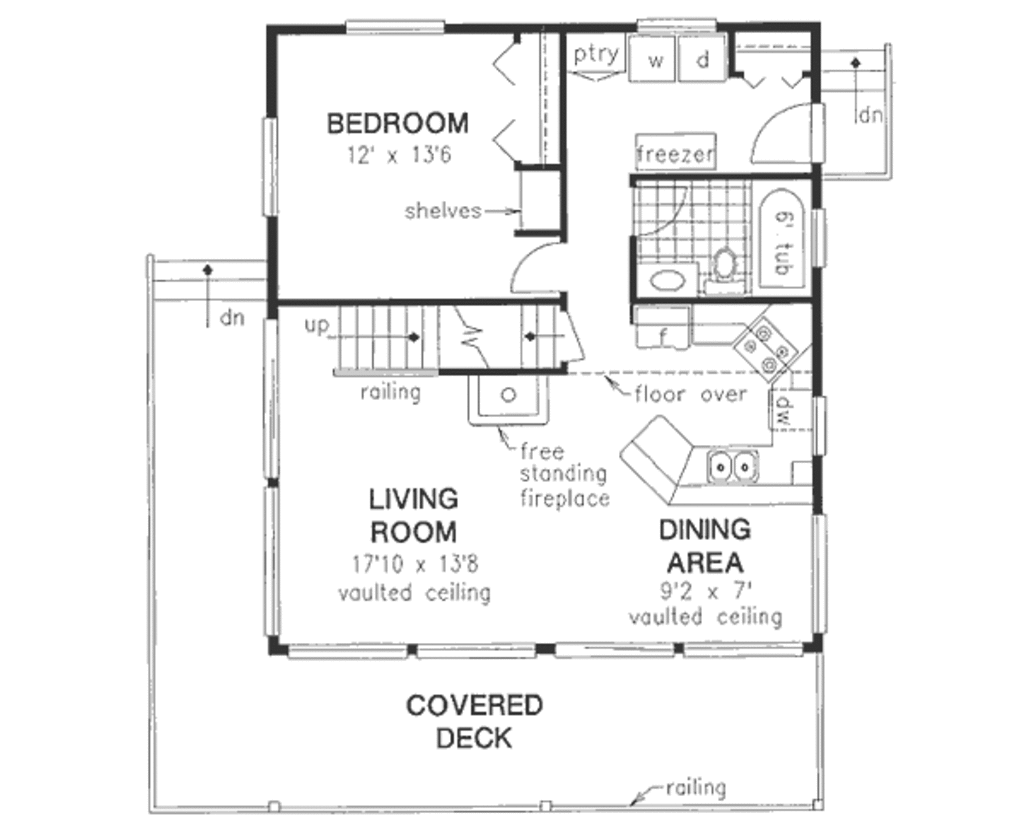door: (740, 102, 832, 170), (499, 235, 571, 302), (630, 181, 696, 244)
large_sink: (699, 234, 745, 300)
small_sink: (632, 258, 702, 301)
stairs: (320, 305, 584, 389)
tub: (746, 173, 813, 300)
twin_sink: (701, 451, 763, 491)
window: (806, 512, 832, 634), (258, 116, 279, 219), (626, 15, 725, 35), (345, 19, 446, 35), (807, 205, 831, 270), (809, 393, 830, 458)
